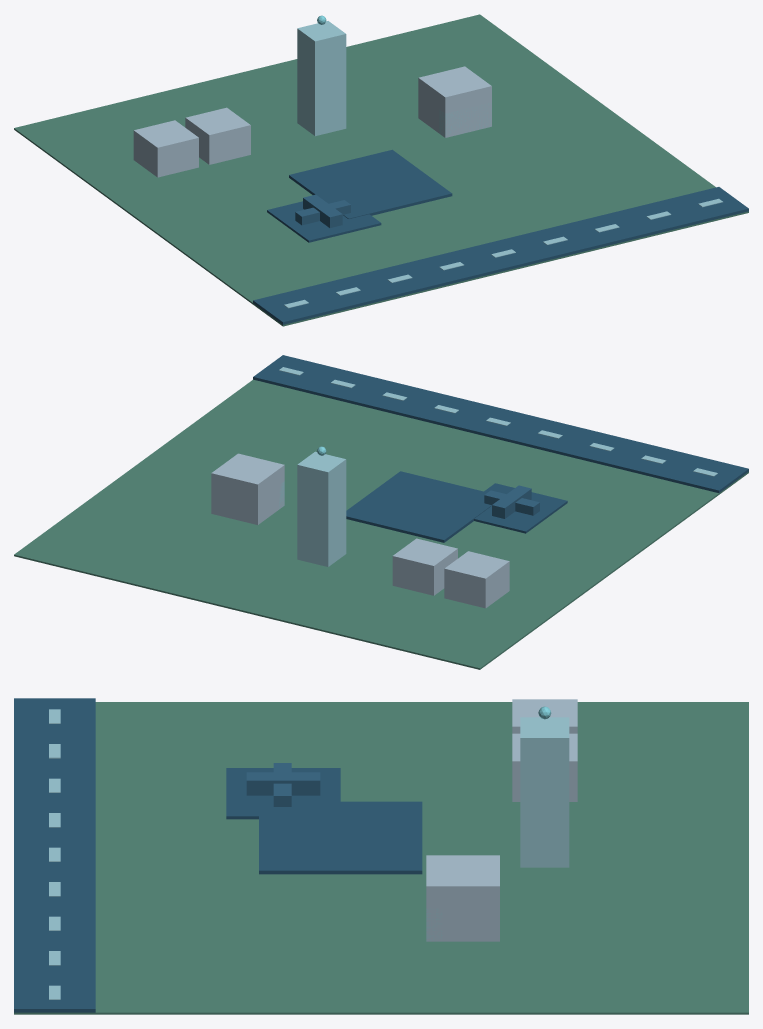
File: stage_06.glb
3 renders of one model, top to bottom at view 1: azimuth 30°, elevation 25°; view 2: azimuth 150°, elevation 25°; view 3: azimuth 270°, elevation 25°, orthographic. The views are drawn at different scales.
Parts seen in each view (by area): view 1: geometry_0; view 2: geometry_0; view 3: geometry_0.
Boxes of the visible parts, x1,y1,x2,y2 form: geometry_0: (14,14,748,326); geometry_0: (14,355,748,669); geometry_0: (14,698,748,1014).
Size of the model in its own units: 9 by 2.06 by 9.
